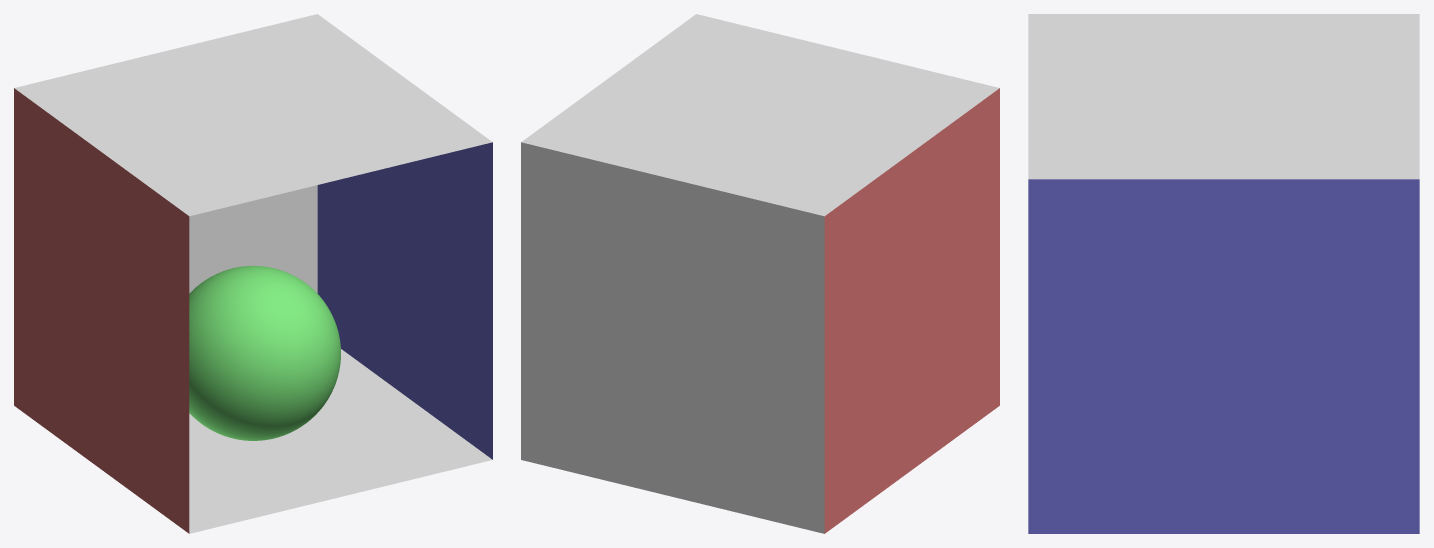
Rendered from sphere-metallic-rough.gltf.
3 views of the same model, side by side, from view 1: azimuth 30°, elevation 25°; view 2: azimuth 150°, elevation 25°; view 3: azimuth 270°, elevation 25° (orthographic). The views are drawn at different scales.
Visible parts, largest first — view 1: Plane.004, Plane.001, Plane.003, Plane, Icosphere, Plane.002; view 2: Plane.002, Plane.004, Plane.001; view 3: Plane.003, Plane.001.
Part boxes in pixels (bbox=[...]): Plane.004: bbox=[14, 88, 189, 533]; Plane.001: bbox=[14, 14, 492, 216]; Plane.003: bbox=[317, 142, 492, 459]; Plane: bbox=[189, 349, 492, 533]; Icosphere: bbox=[189, 265, 340, 440]; Plane.002: bbox=[189, 185, 317, 293]; Plane.002: bbox=[521, 142, 824, 533]; Plane.004: bbox=[824, 88, 999, 533]; Plane.001: bbox=[521, 14, 999, 216]; Plane.003: bbox=[1028, 179, 1419, 533]; Plane.001: bbox=[1028, 14, 1419, 179].
Size of the model in its own units: 4 by 4 by 4.
